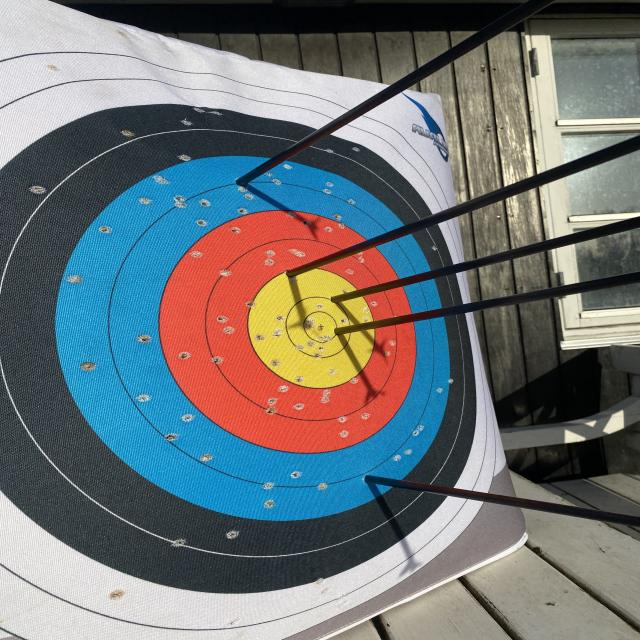Arrow_Blue: (225, 166, 269, 206), (357, 465, 401, 498)
Arrow_Yellow: (275, 258, 314, 289), (324, 321, 362, 349), (324, 282, 352, 312)
